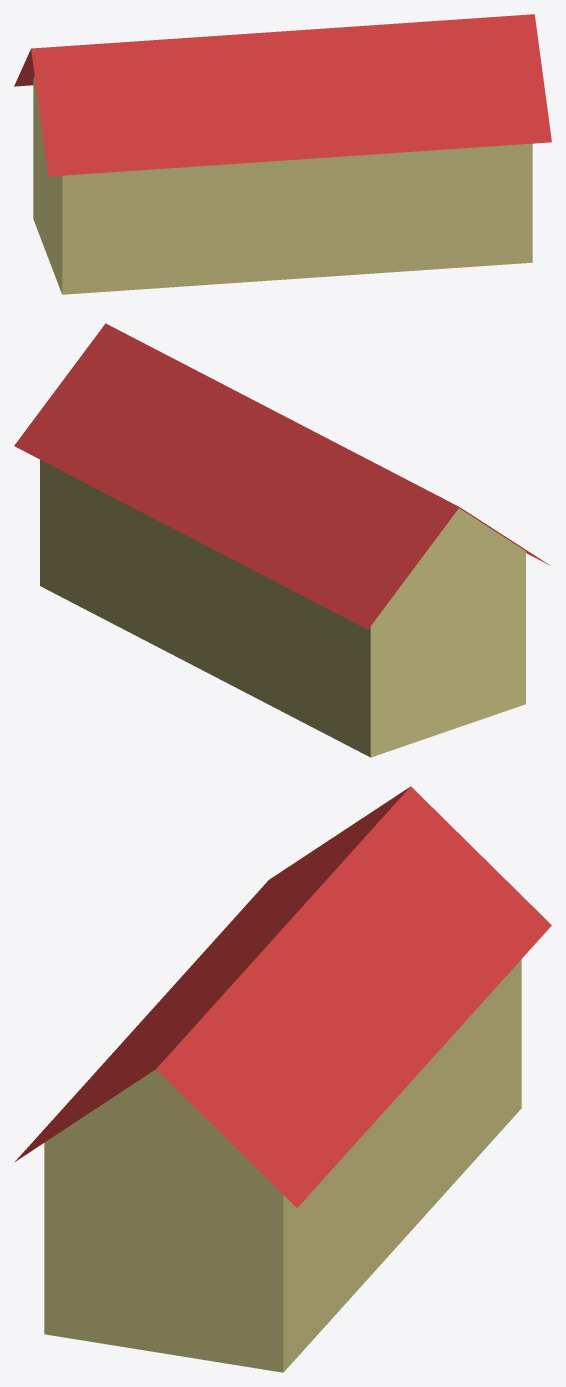
3 views of the same model, one above another, from view 1: azimuth 30°, elevation 25°; view 2: azimuth 150°, elevation 25°; view 3: azimuth 270°, elevation 25° (orthographic). The views are drawn at different scales.
Bounding box in the file's own units: 32.97 × 22.82 × 13.75.
